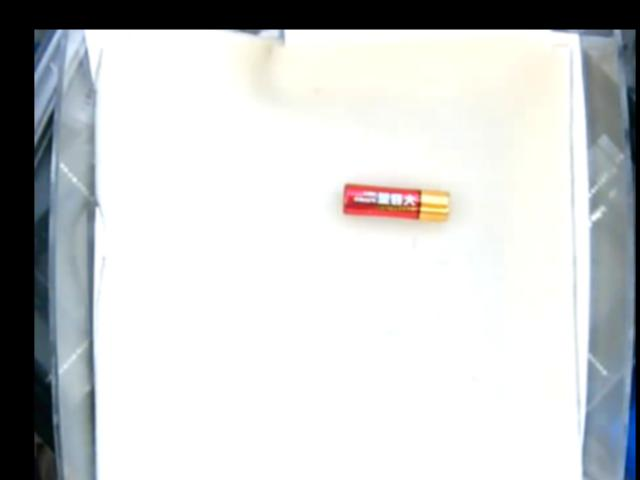Battery: (340, 185, 453, 219)
